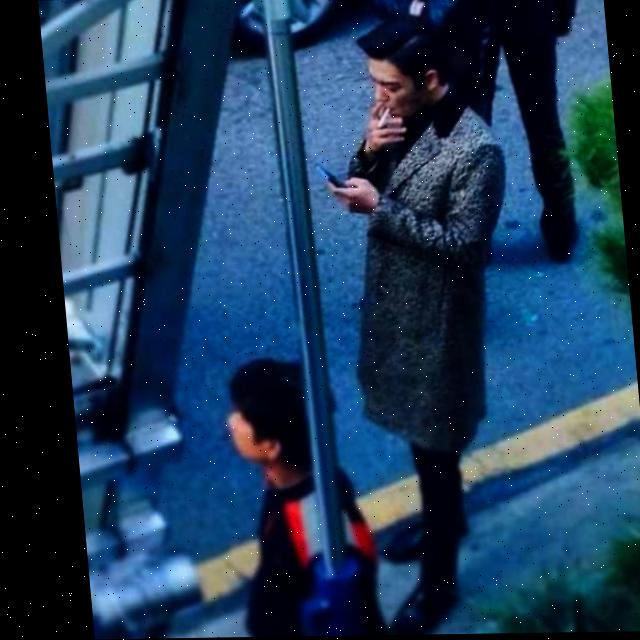cigarette: (373, 108, 388, 128)
